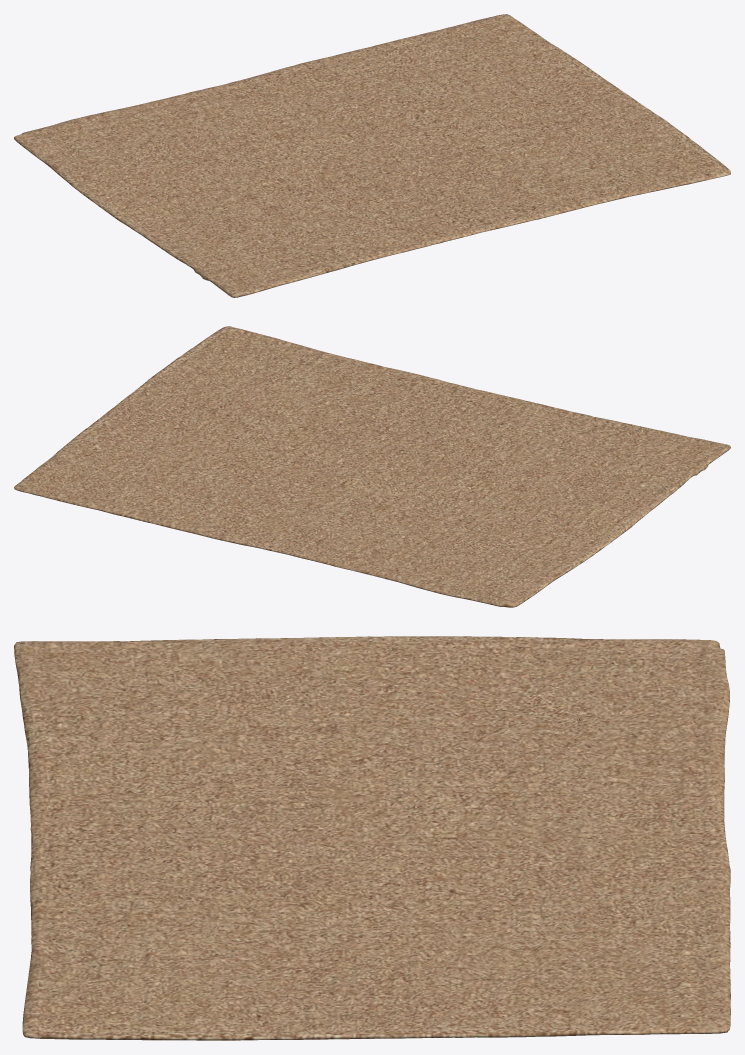
The model's file is B07121ZVX4.glb.
3 views of the same model, one above another, from view 1: azimuth 30°, elevation 25°; view 2: azimuth 150°, elevation 25°; view 3: azimuth 270°, elevation 25° (orthographic). The views are drawn at different scales.
Parts seen in each view (by area): view 1: geometry_0; view 2: geometry_0; view 3: geometry_0.
Boxes of the visible parts, x1,y1,x2,y2 form: geometry_0: [14, 14, 730, 297]; geometry_0: [14, 326, 730, 607]; geometry_0: [14, 636, 730, 1040].
Bounding box in the file's own units: 0.9967 × 0.0102 × 0.7518.
Materials: 1 (1 with a texture image).
